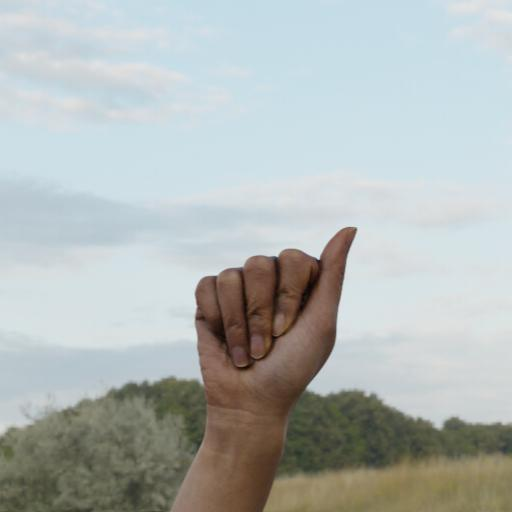A: (172, 216, 374, 421)
